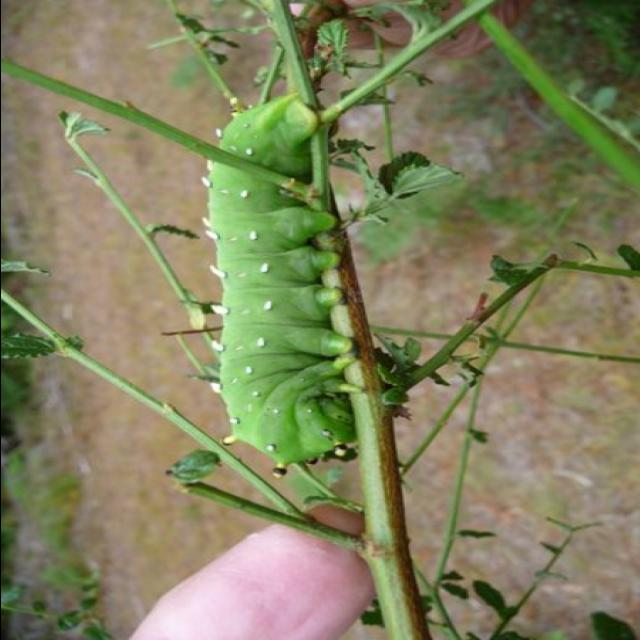caterpillar: (190, 95, 380, 488)
